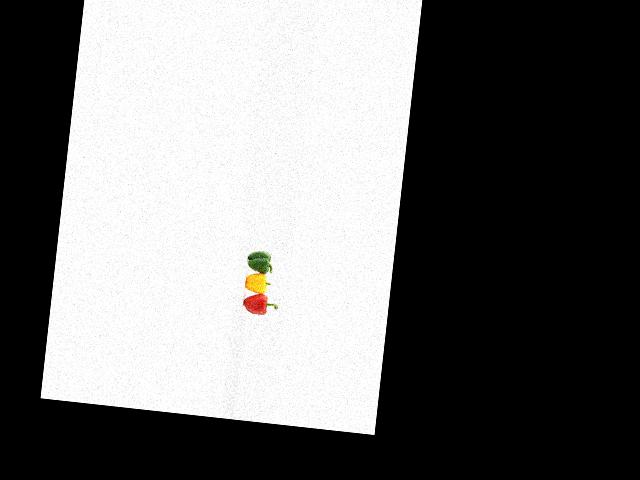bell_pepper: (238, 289, 281, 323)
